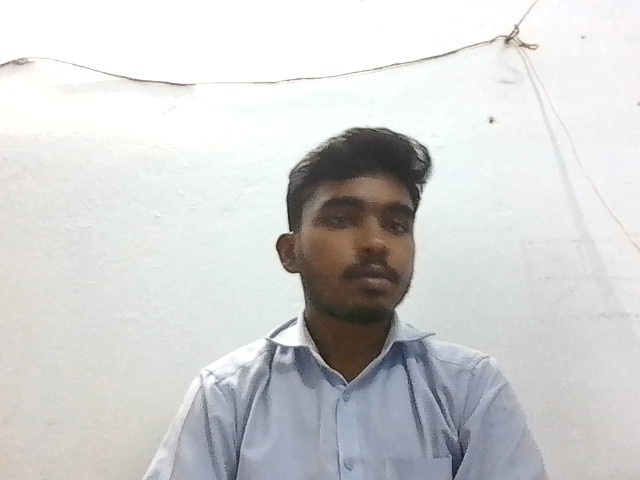real: (279, 116, 432, 333)
